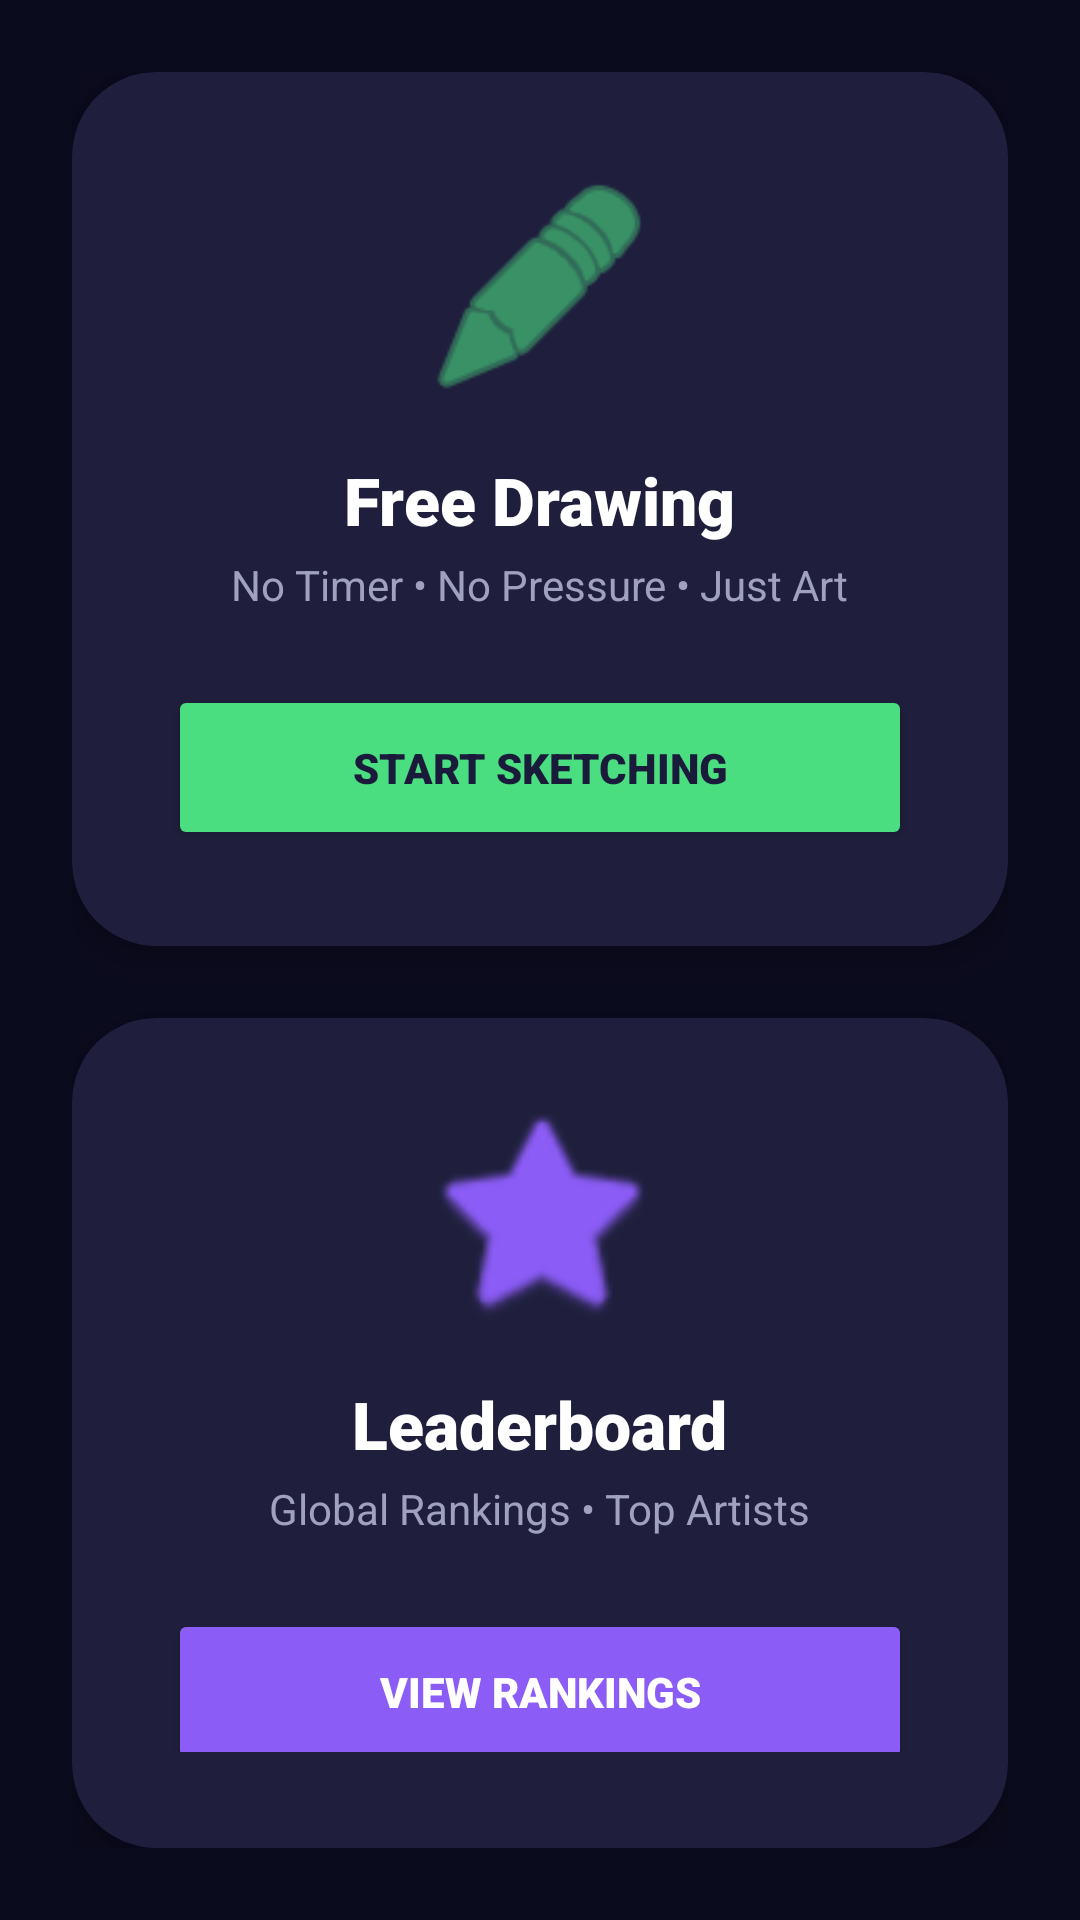

Named icons in this screenshot (1080 x 1920) and their bounding boxes, (x1, y1, x2, y2):
edit: (438, 185, 641, 388)
star on: (442, 1117, 642, 1311)
